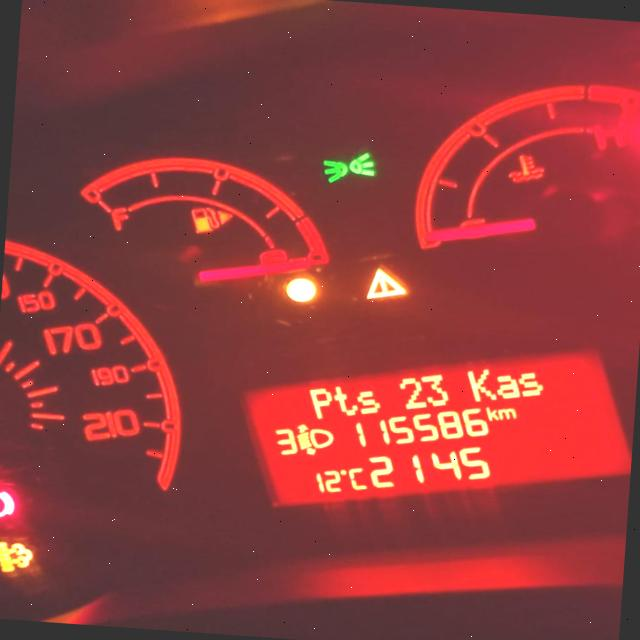odometer: (228, 322, 637, 534)
